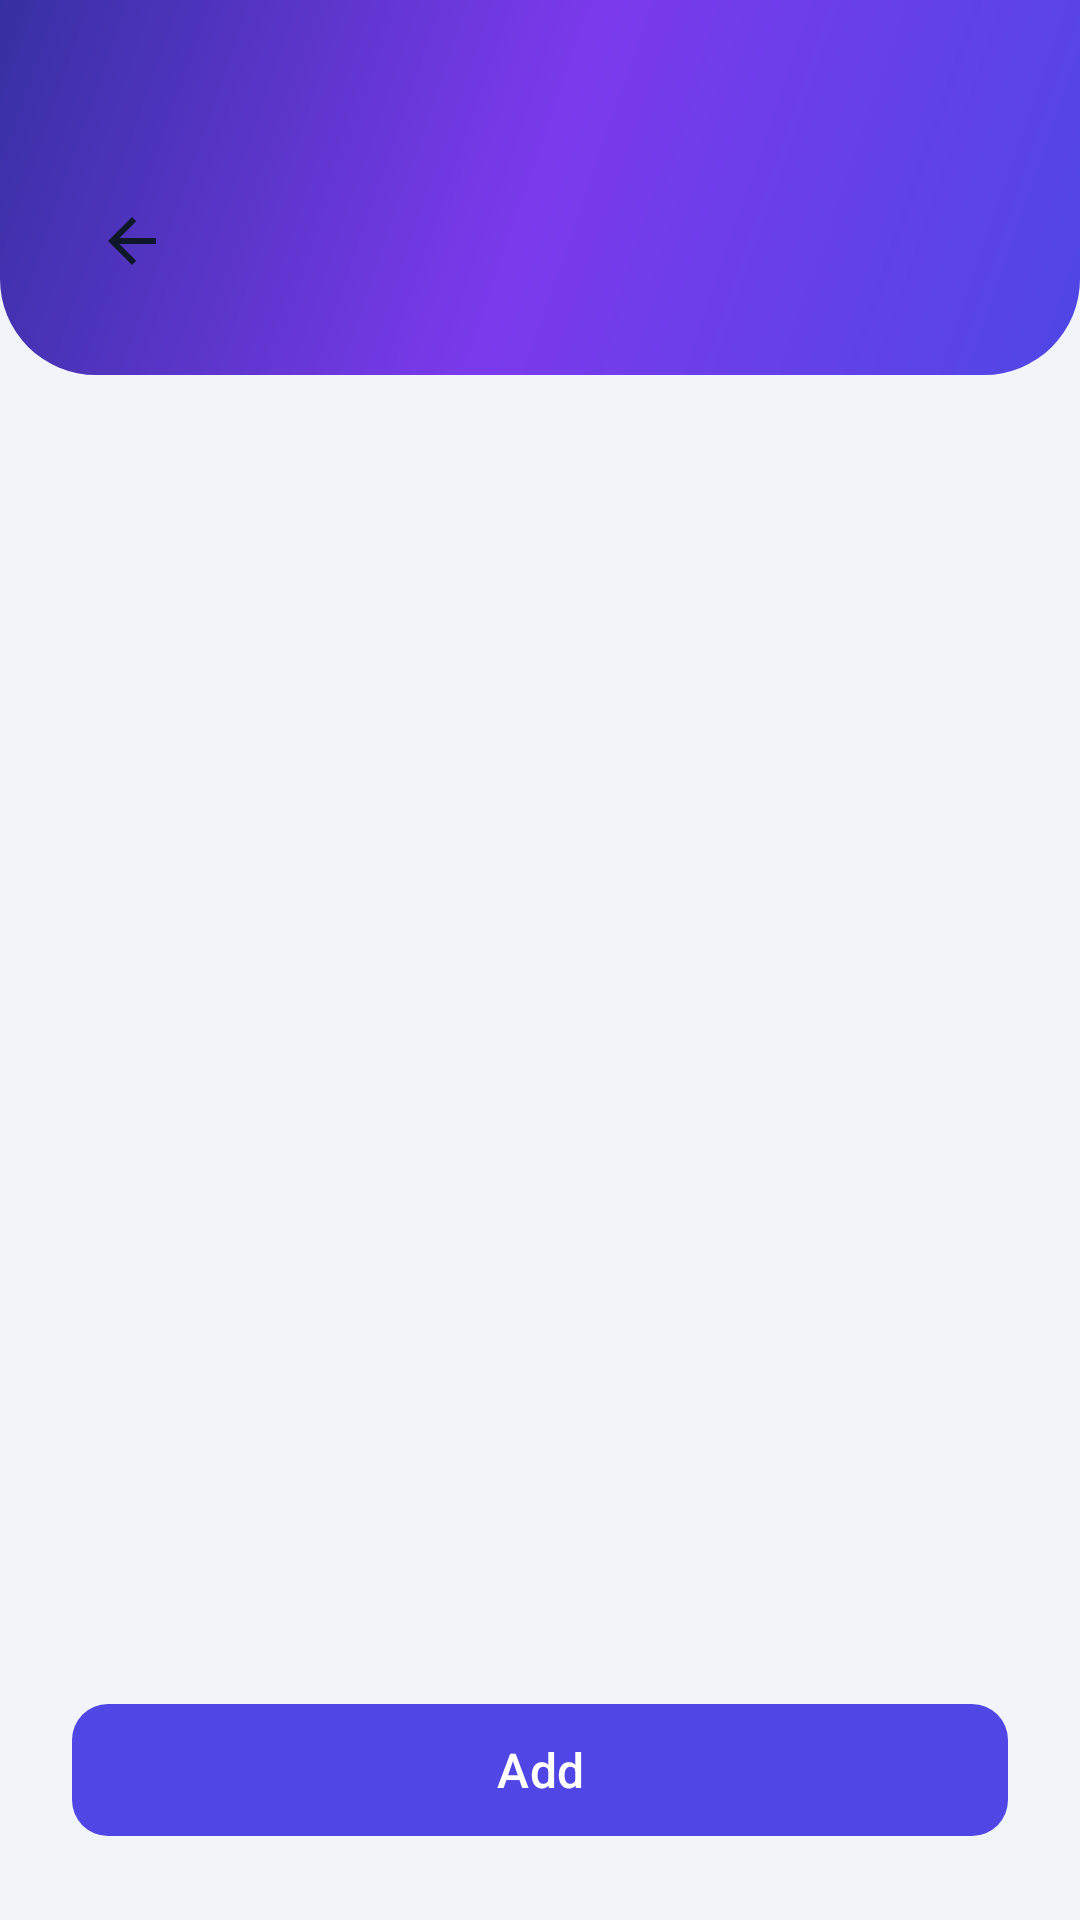

Screen size 1080w x 1920h. Icon name, then its box in pixels as (x1=x1, y1=y1, x2=x2, y2=y2):
Back: (x1=108, y1=217, x2=156, y2=265)
